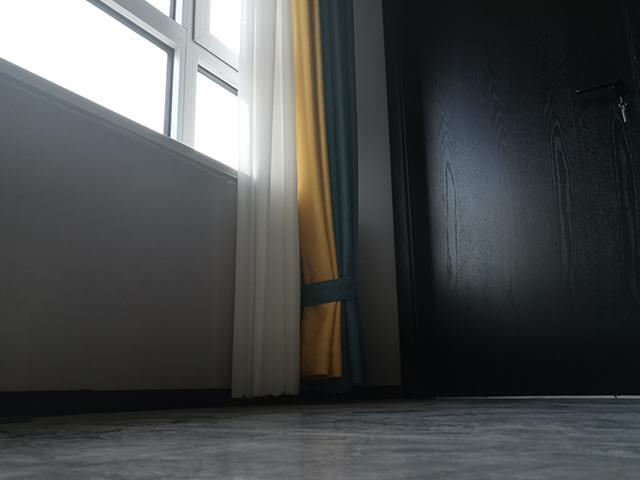curtain: (228, 1, 373, 402)
